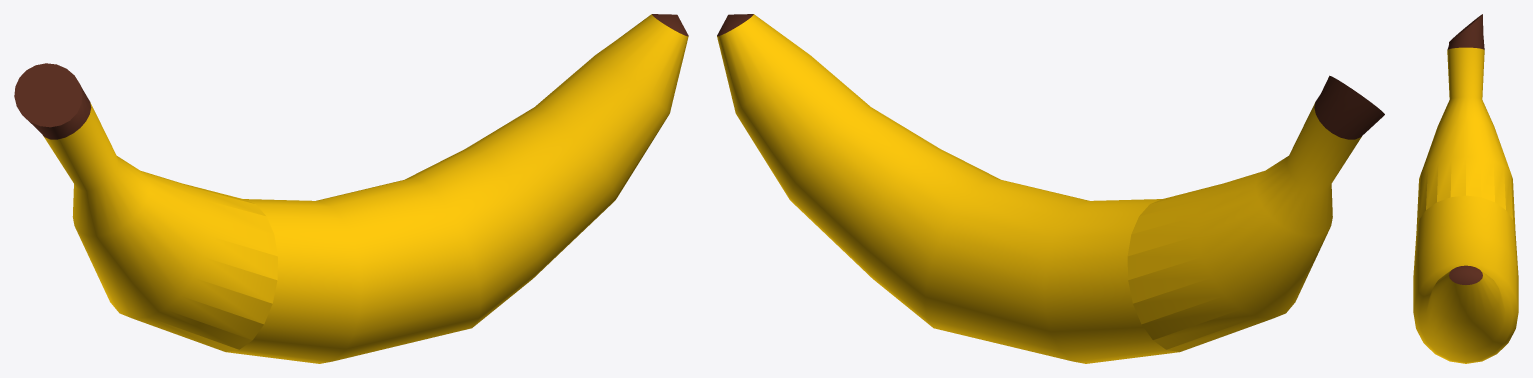
The model's file is Banana.fbx.
3 renders of one model, left to right at view 1: azimuth 30°, elevation 25°; view 2: azimuth 150°, elevation 25°; view 3: azimuth 270°, elevation 25°, orthographic. The views are drawn at different scales.
Parts seen in each view (by area): view 1: pCylinder2; view 2: pCylinder2; view 3: pCylinder2.
Part boxes in pixels (x1,y1,x2,y2): pCylinder2: [14, 14, 688, 363]; pCylinder2: [717, 14, 1384, 363]; pCylinder2: [1413, 14, 1518, 363].
Bounding box in the file's own units: 8.33 × 4.18 × 1.78.
